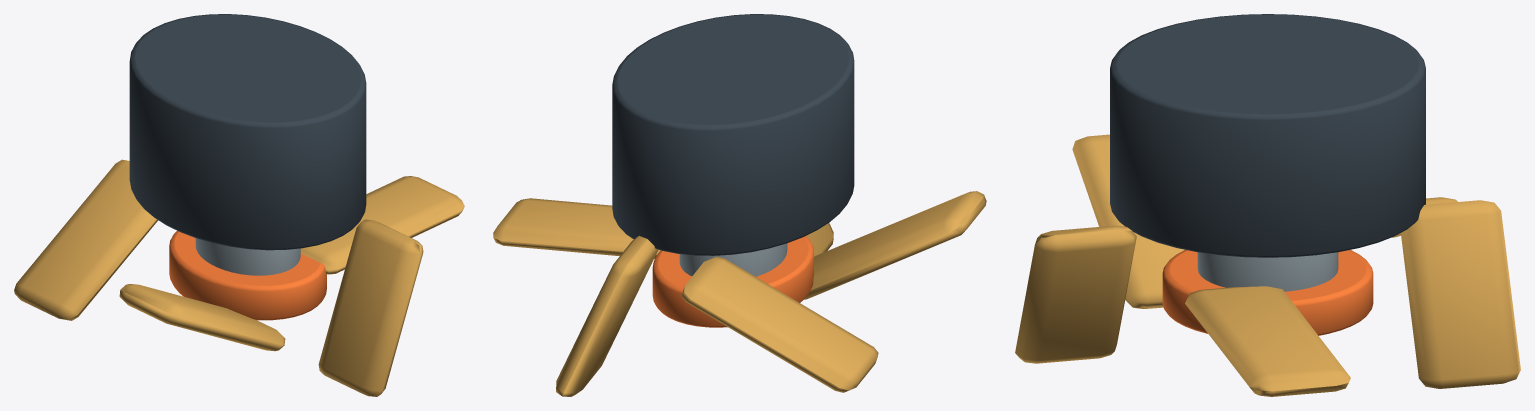
File: propeller.glb
The picture shows the model from 3 angles, left to right: view 1: azimuth 30°, elevation 25°; view 2: azimuth 150°, elevation 25°; view 3: azimuth 270°, elevation 25°; orthographic projection. The views are drawn at different scales.
Parts seen in each view (by area): view 1: Drive housing, Hydrodynamic blade.001, Hydrodynamic blade.003, Spinner, Hydrodynamic blade, Hydrodynamic blade.002, Prop shaft; view 2: Drive housing, Hydrodynamic blade.003, Hydrodynamic blade.002, Hydrodynamic blade, Hydrodynamic blade.004, Spinner, Prop shaft, Hydrodynamic blade.001; view 3: Drive housing, Hydrodynamic blade.004, Hydrodynamic blade.001, Hydrodynamic blade, Spinner, Hydrodynamic blade.002, Prop shaft.
Boxes of the visible parts, x1,y1,x2,y2 form: Drive housing: [129, 14, 366, 250]; Hydrodynamic blade.001: [318, 219, 423, 396]; Hydrodynamic blade.003: [14, 159, 158, 320]; Spinner: [169, 230, 326, 320]; Hydrodynamic blade: [300, 176, 464, 274]; Hydrodynamic blade.002: [119, 284, 285, 351]; Prop shaft: [195, 238, 300, 275]; Drive housing: [612, 14, 854, 255]; Hydrodynamic blade.003: [681, 256, 878, 392]; Hydrodynamic blade.002: [804, 191, 986, 299]; Hydrodynamic blade: [493, 198, 660, 259]; Hydrodynamic blade.004: [556, 236, 658, 396]; Spinner: [652, 236, 813, 327]; Prop shaft: [679, 243, 787, 276]; Hydrodynamic blade.001: [806, 223, 833, 256]; Drive housing: [1110, 14, 1425, 257]; Hydrodynamic blade.004: [1401, 200, 1520, 388]; Hydrodynamic blade.001: [1015, 225, 1136, 363]; Hydrodynamic blade: [1185, 286, 1350, 396]; Spinner: [1162, 250, 1373, 335]; Hydrodynamic blade.002: [1072, 134, 1185, 308]; Prop shaft: [1197, 252, 1338, 291].
Size of the model in its own units: 0.8 by 0.5 by 0.8.
